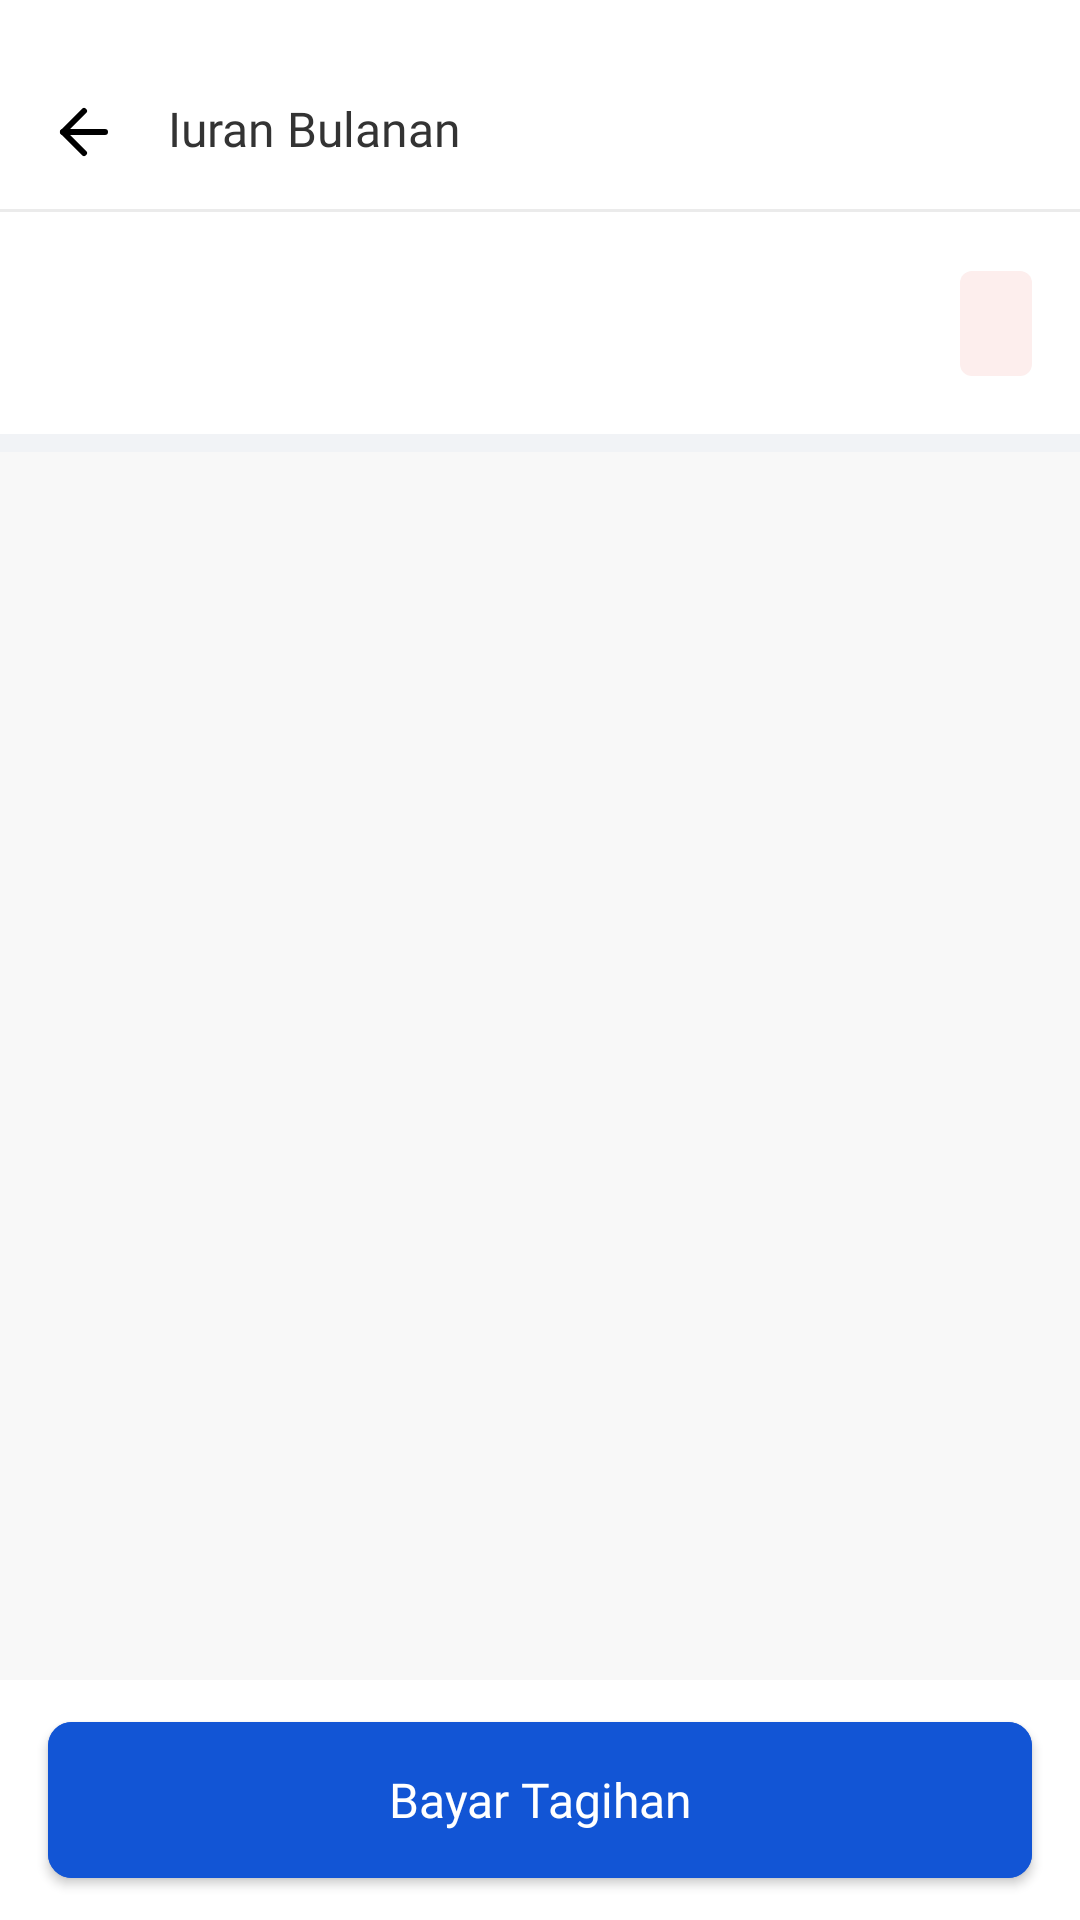

Named icons in this screenshot (1080px x 1920px) and their centers, [x,y]:
back: [84,132]
